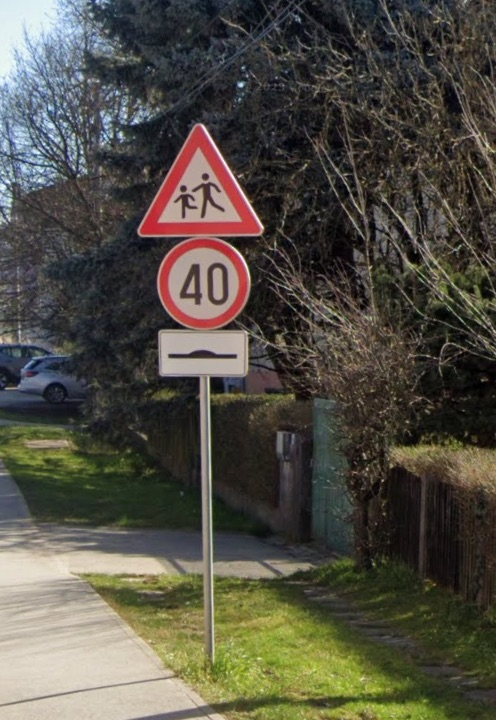Ograničenje brzine 40: (157, 237, 251, 329)
